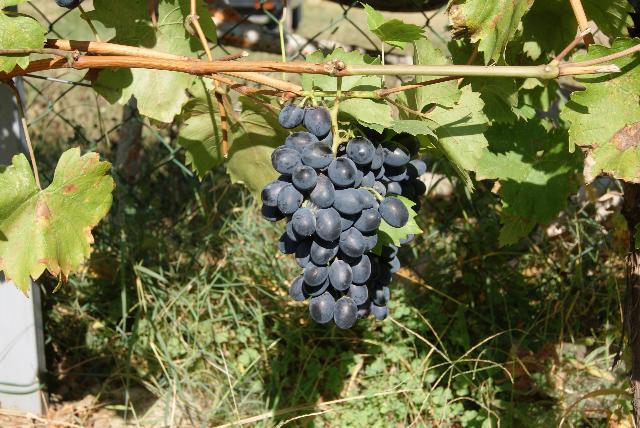grapes: (261, 104, 426, 329)
